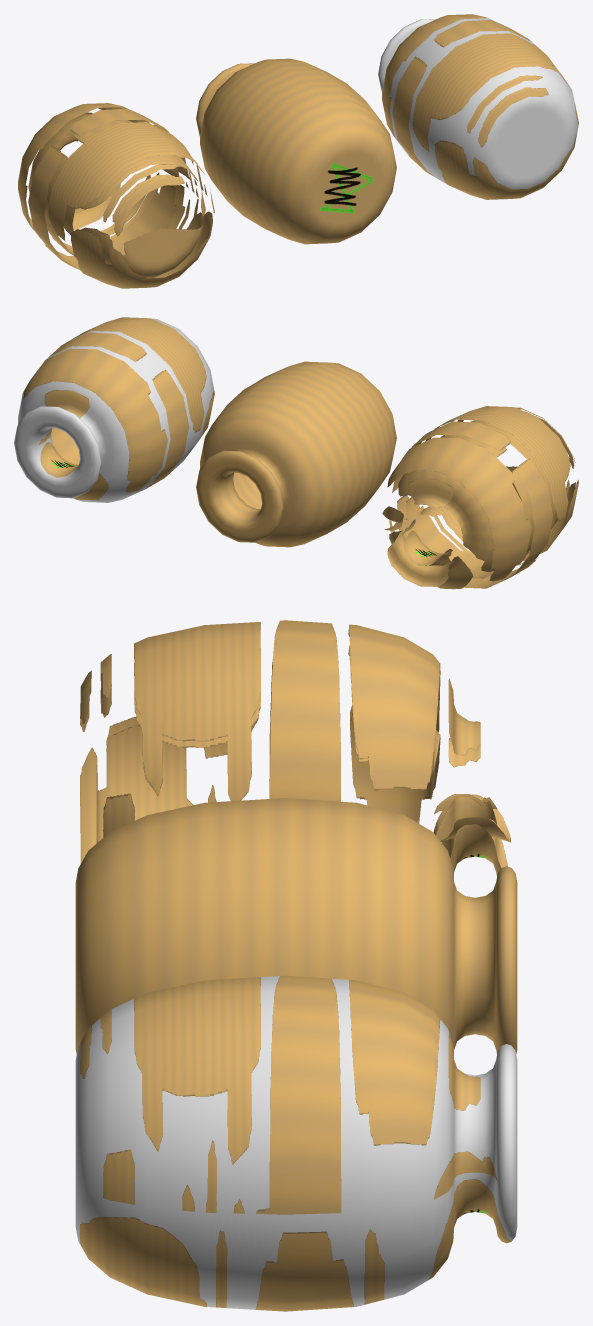
The model's file is final_urn.fbx.
The picture shows the model from 3 angles, top to bottom: view 1: azimuth 30°, elevation 25°; view 2: azimuth 150°, elevation 25°; view 3: azimuth 270°, elevation 25°; orthographic projection. The views are drawn at different scales.
Visible parts, largest first — view 1: urn, urn.001, urn.002, urn curve; view 2: urn, urn.001, urn.002, urn curve; view 3: urn, urn.002, urn curve, urn.001.
Part boxes in pixels (left/top/right/bottom): urn: left=196, top=58, right=396, bottom=244; urn.001: left=18, top=103, right=214, bottom=288; urn.002: left=382, top=14, right=578, bottom=199; urn curve: left=378, top=18, right=578, bottom=189; urn: left=196, top=361, right=396, bottom=547; urn.001: left=382, top=406, right=578, bottom=589; urn.002: left=19, top=317, right=214, bottom=500; urn curve: left=14, top=318, right=214, bottom=502; urn: left=75, top=798, right=517, bottom=1053; urn.002: left=80, top=975, right=510, bottom=1311; urn curve: left=75, top=976, right=517, bottom=1309; urn.001: left=80, top=620, right=510, bottom=876.
Size of the model in its own units: 560 by 160 by 210.
2 materials, 2 textured.
